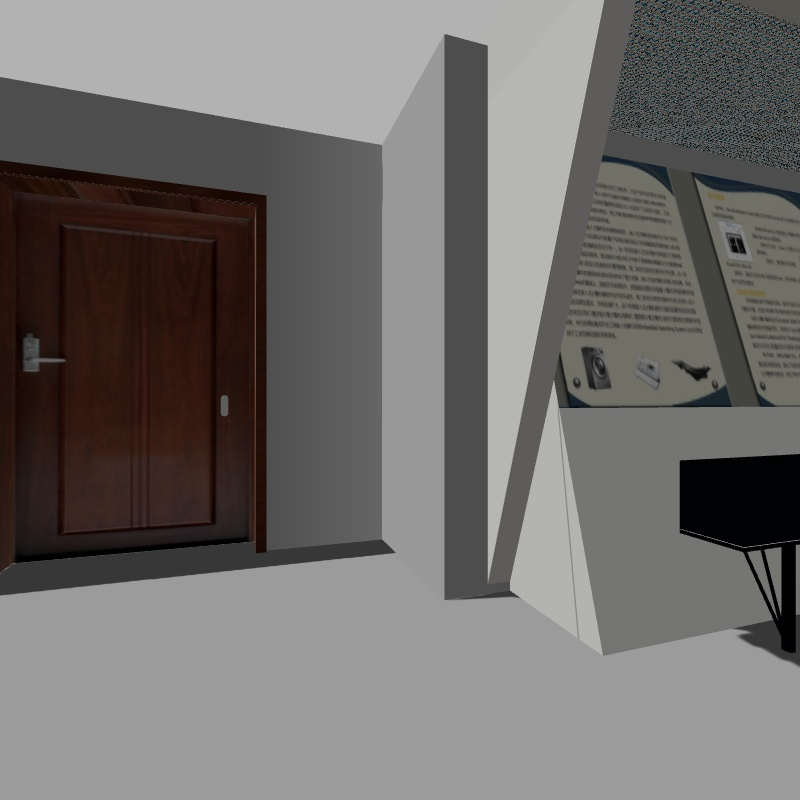handle: (20, 325, 72, 381)
